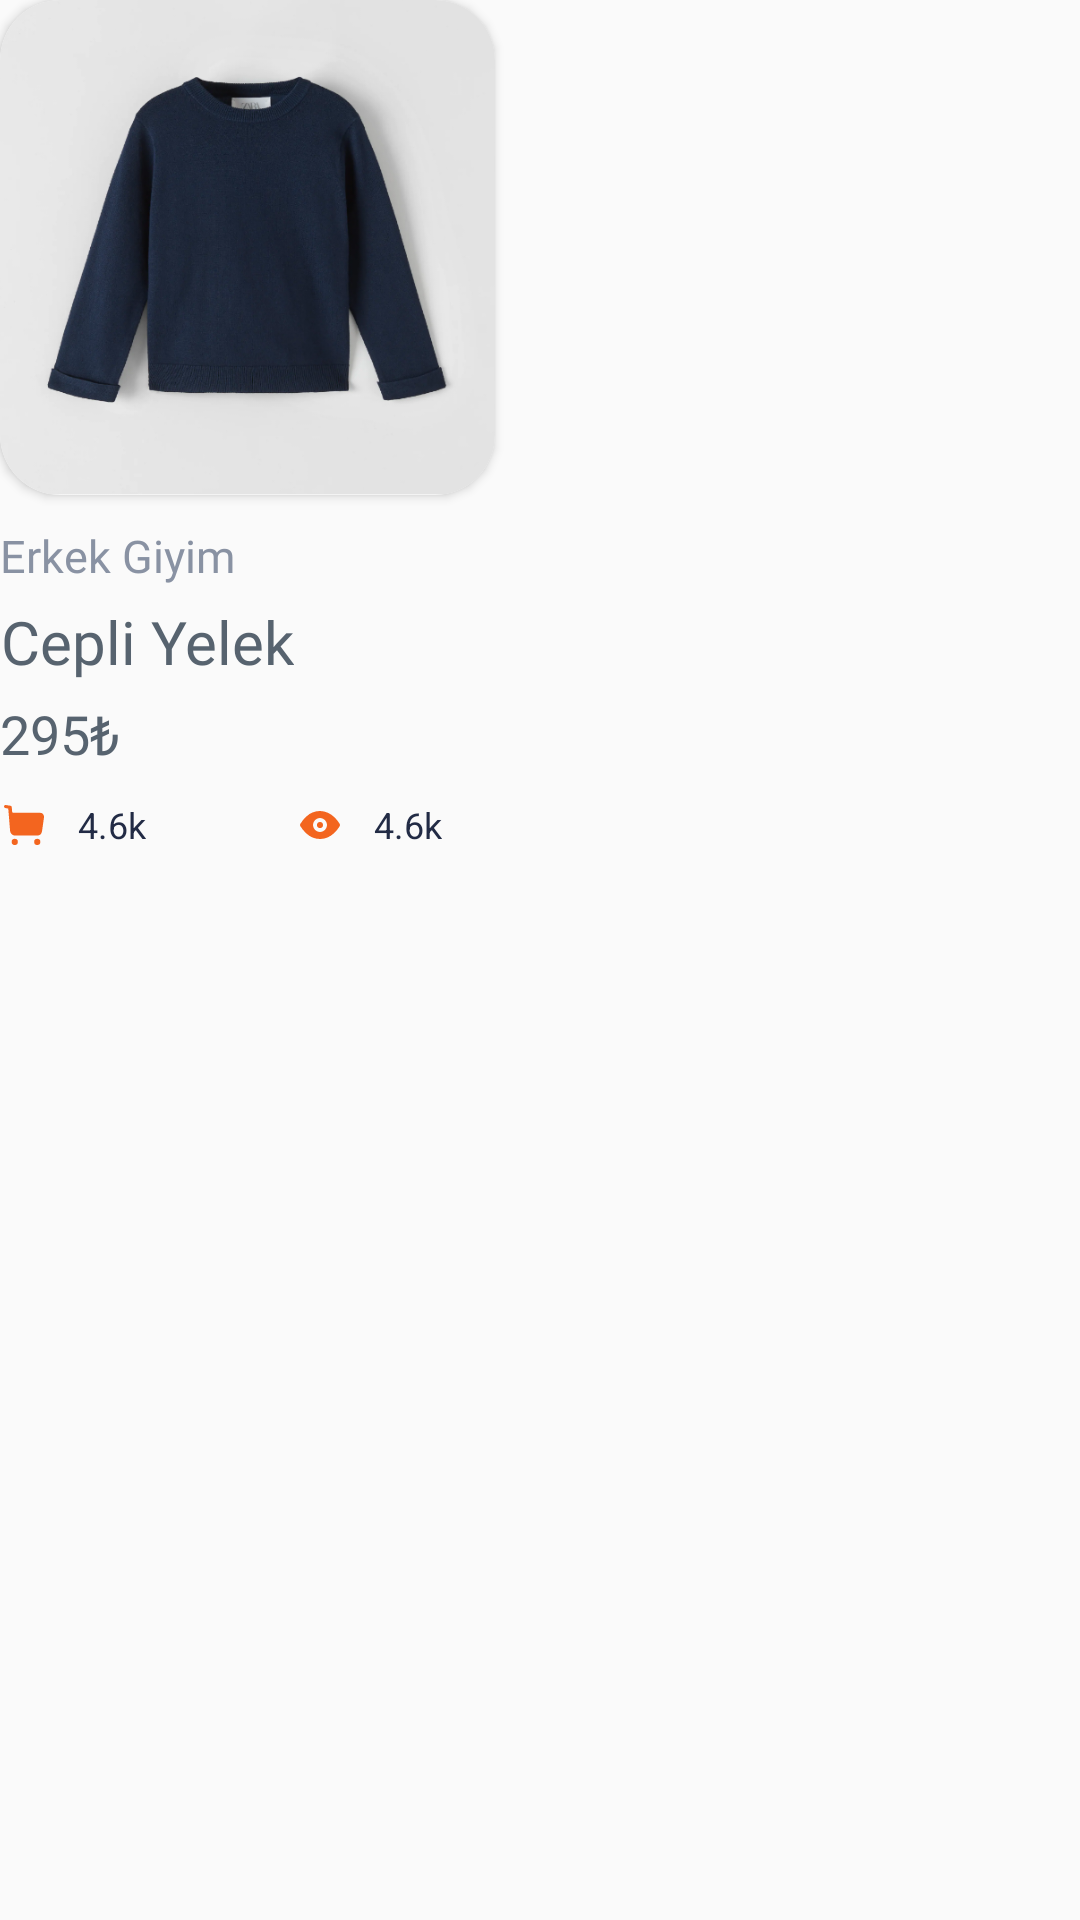

Icons on this 1080w x 1920h Android screen, each with its box as (x1, y1, x2, y2):
shopping: (4, 805, 44, 845)
views: (300, 811, 340, 839)
